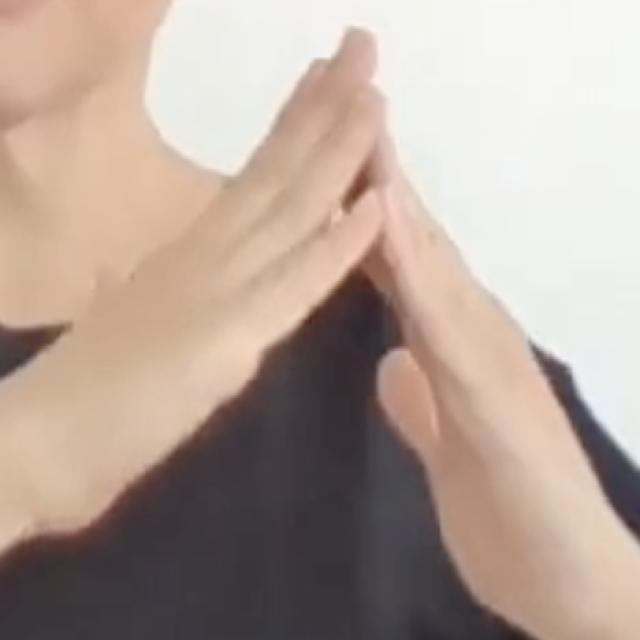casa: (14, 19, 618, 624)
